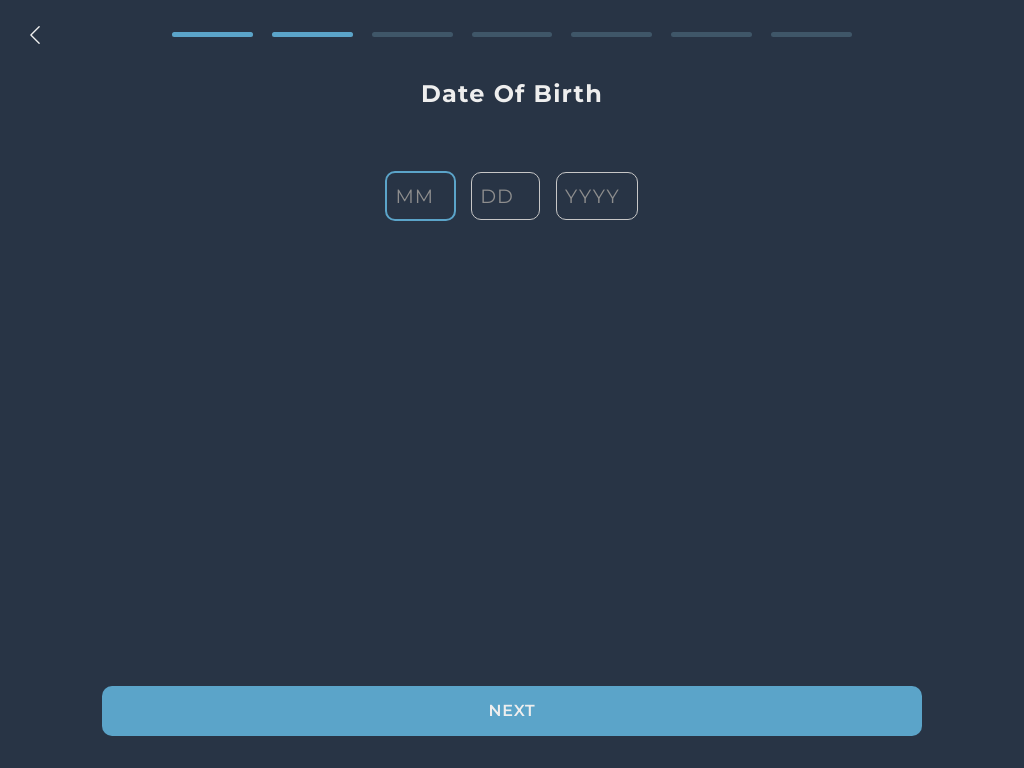
Test: Birthday › Birthday input testing › Should not allow values under 0 in any birthday input
The image size is (1024, 768).
Type "-1" into the field with test id "month" showing "MM" at [421, 196], box [386,171,456,221]
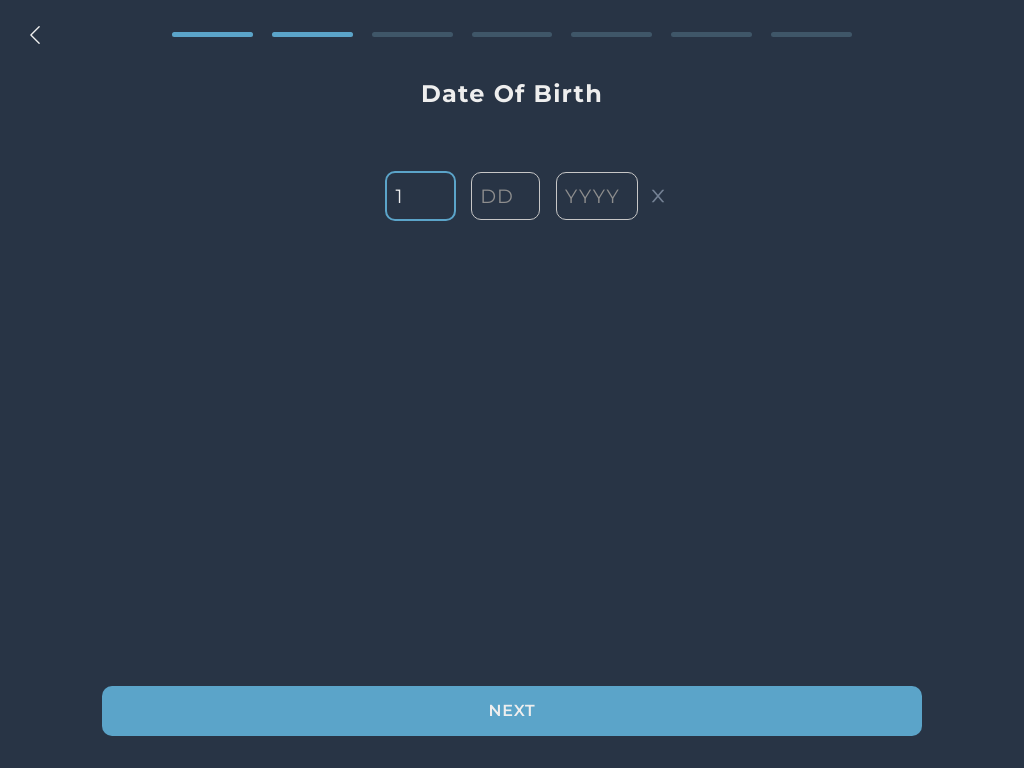
Type "-1" into the field with test id "day" showing "DD" at [506, 196], box [471,172,540,220]
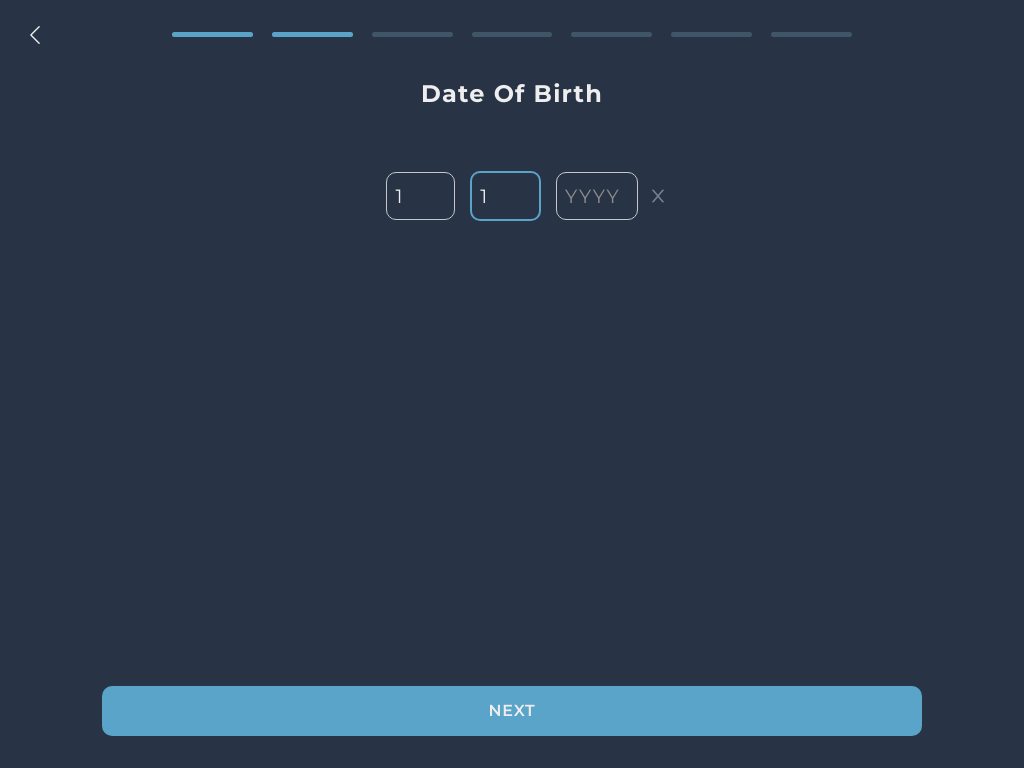
Type "-1" into the field with test id "year" showing "YYYY" at [597, 196], box [556,172,638,220]
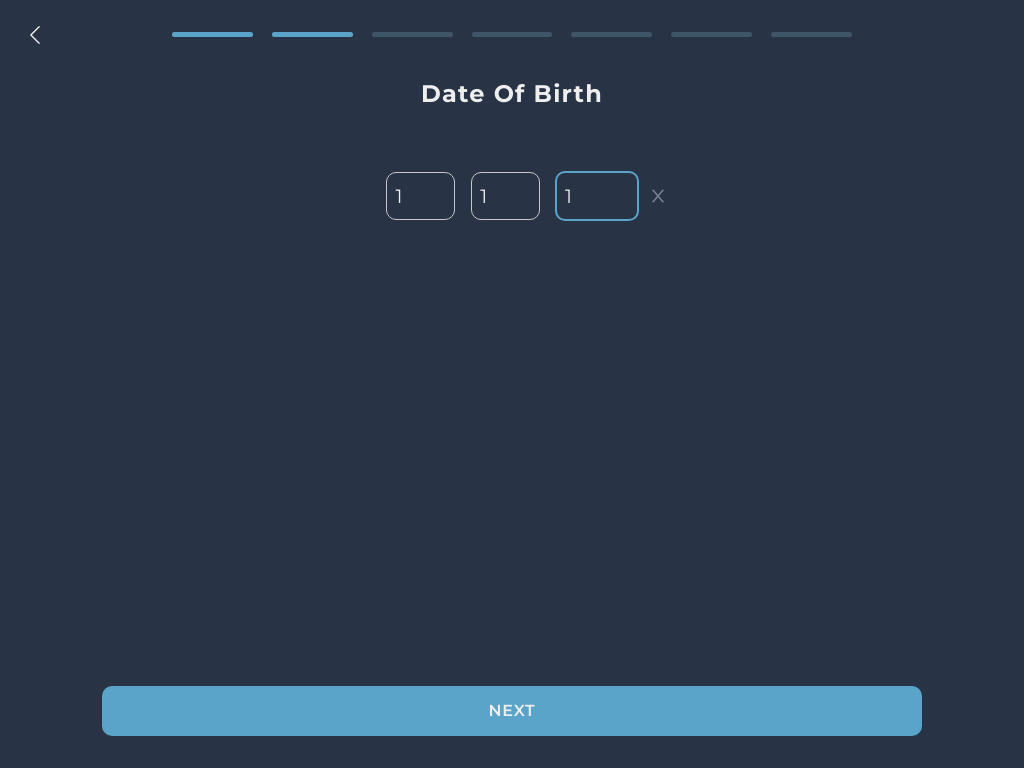
Expected: the 1st field with test id "month" holds "1", [386,172,455,220]
Expected: the 2nd field with test id "day" holds "1", [471,172,540,220]
Expected: the 3rd field with test id "year" holds "1", [555,171,638,221]
